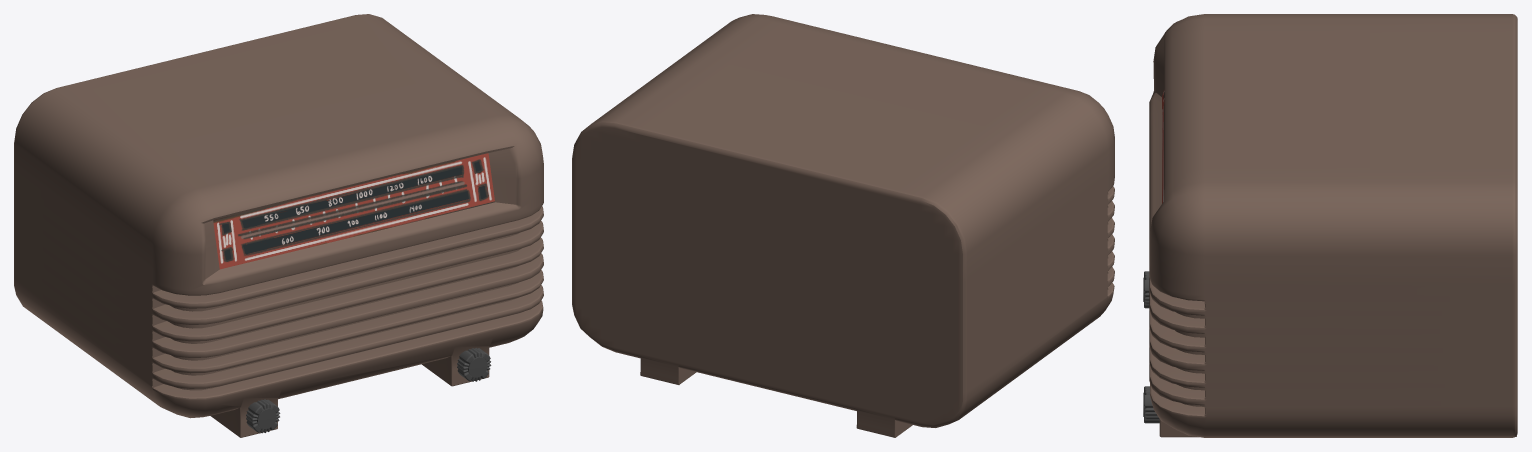
The model's file is AP_Radio_HB.fbx.
3 renders of one model, left to right at view 1: azimuth 30°, elevation 25°; view 2: azimuth 150°, elevation 25°; view 3: azimuth 270°, elevation 25°, orthographic. The views are drawn at different scales.
Visible parts, largest first — view 1: pCube1, pCylinder1, pCylinder2; view 2: pCube1; view 3: pCube1, pCylinder2.
Boxes of the visible parts, x1,y1,x2,y2 form: pCube1: (14,14,543,437); pCylinder1: (246,399,280,433); pCylinder2: (457,348,491,381); pCube1: (572,14,1114,437); pCube1: (1149,14,1517,437); pCylinder2: (1143,386,1159,423).
Bounding box in the file's own units: 0.3803 × 0.2273 × 0.2866.
Materials: 3 (1 with a texture image).
